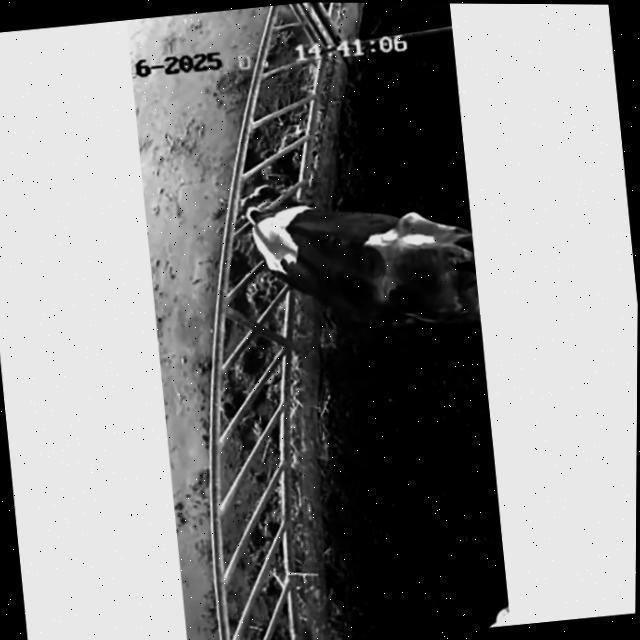eat: (195, 142, 364, 313)
